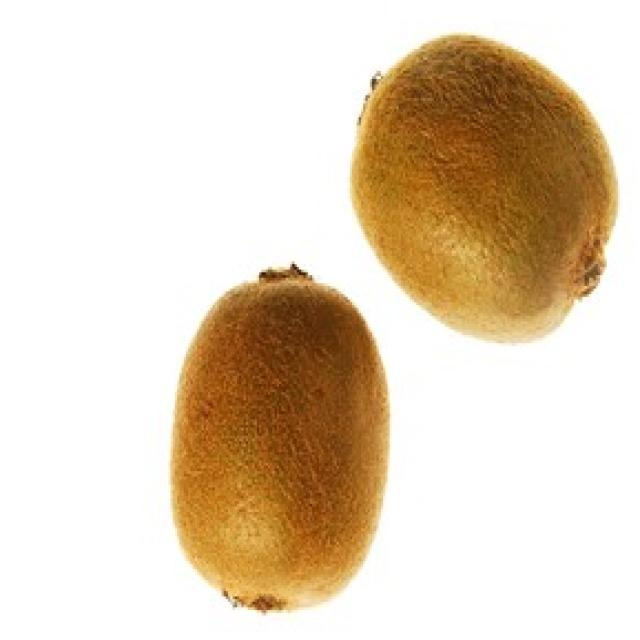kiwi: (354, 35, 620, 339), (173, 278, 390, 611)
